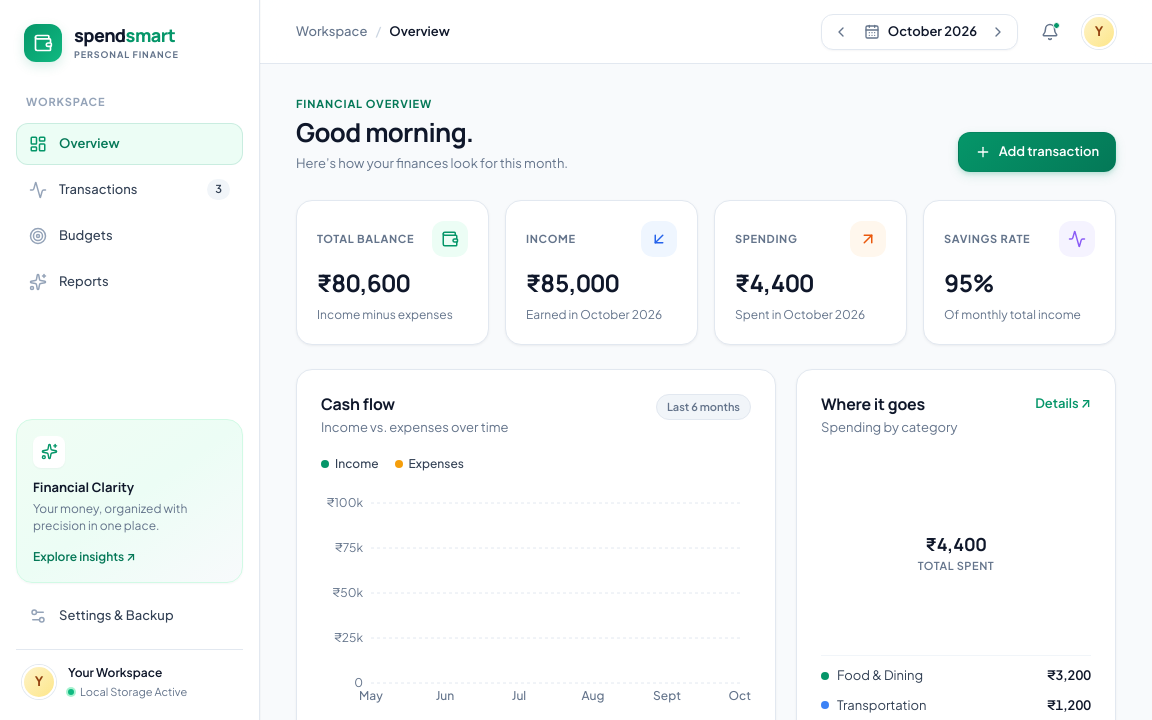
Test: SpendSmart App UI & Interaction Tests › opens and closes the Add Transaction modal
Click the button "Add transaction" at (1037, 152), box [958,132,1116,172]
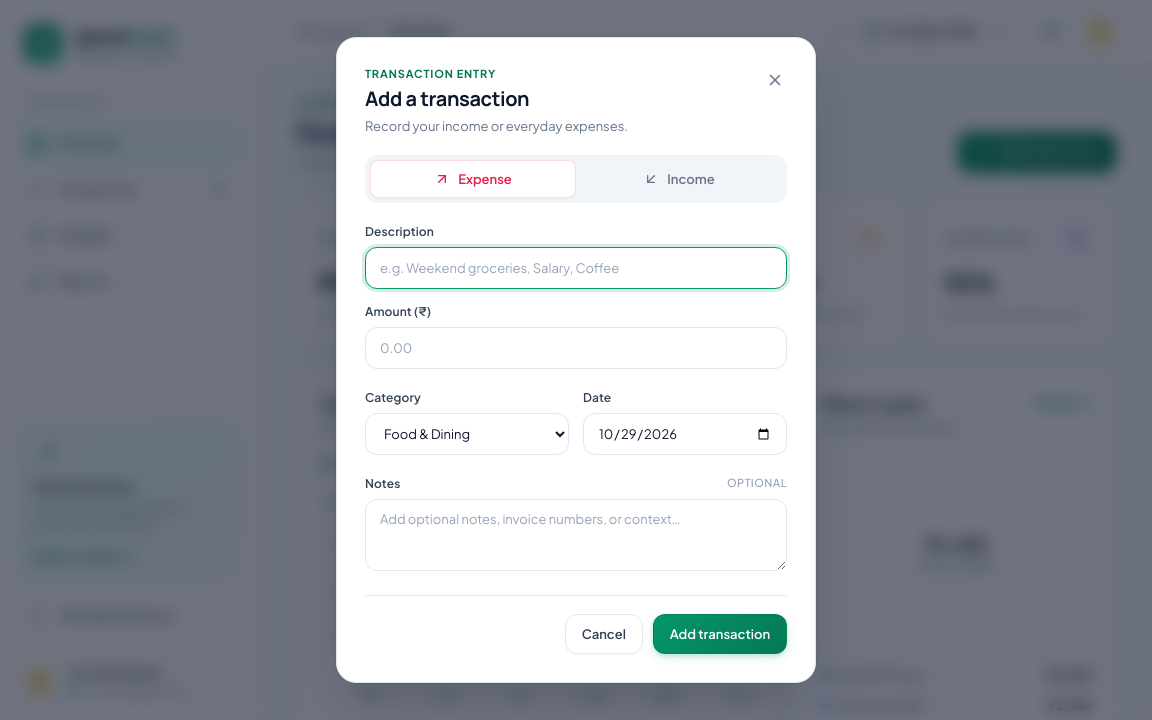
Expected: the text "TRANSACTION ENTRY" is shown, [365,67,496,80]
Expected: the field with placeholder "e.g. Weekend groceries, Salary, Coffee" is shown, [365,247,787,289]
Click the button "Cancel" at (604, 634), box [565,614,643,654]
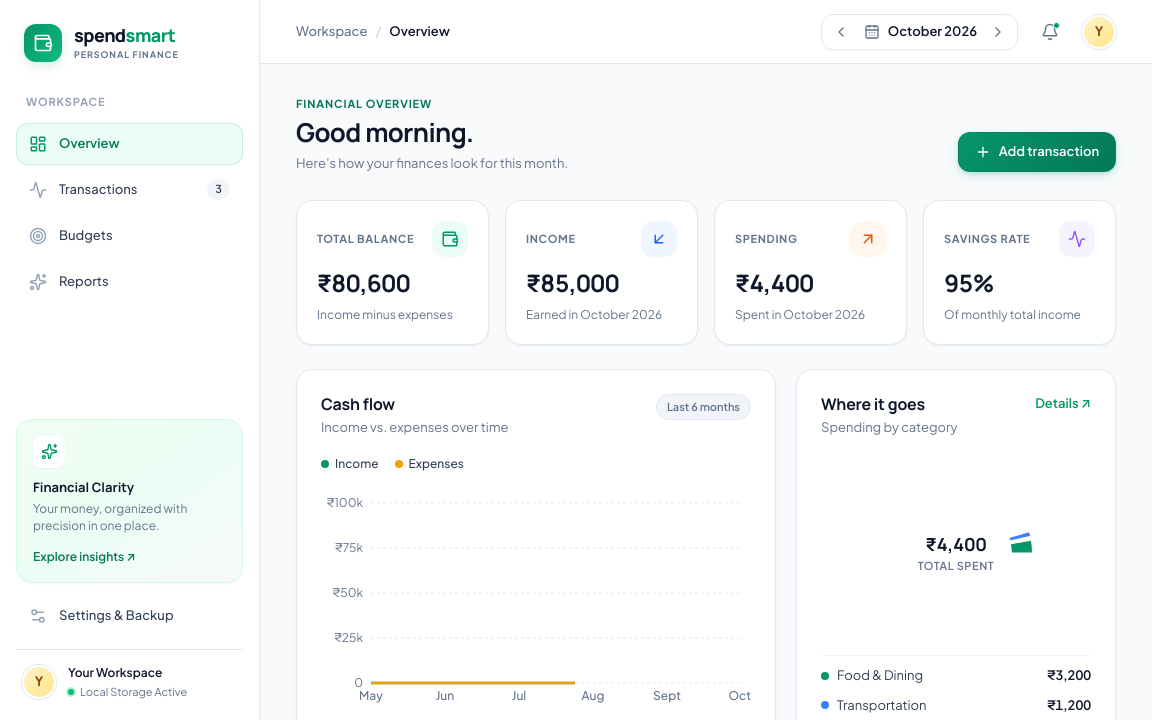
Expected: the text "TRANSACTION ENTRY" is gone
